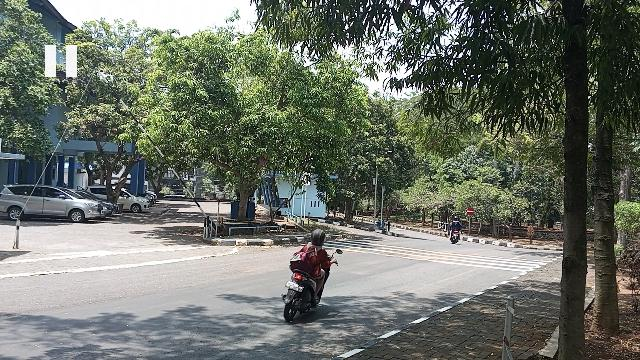helm: (312, 231, 326, 246)
motor: (283, 271, 332, 324)
